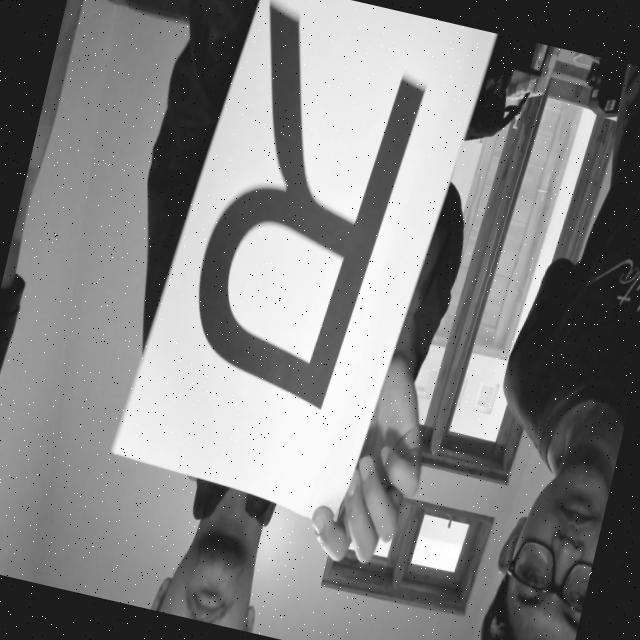r: (153, 0, 449, 443)
